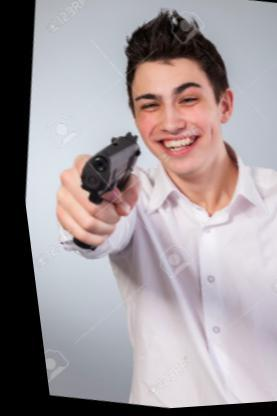pistol: (49, 118, 152, 263)
